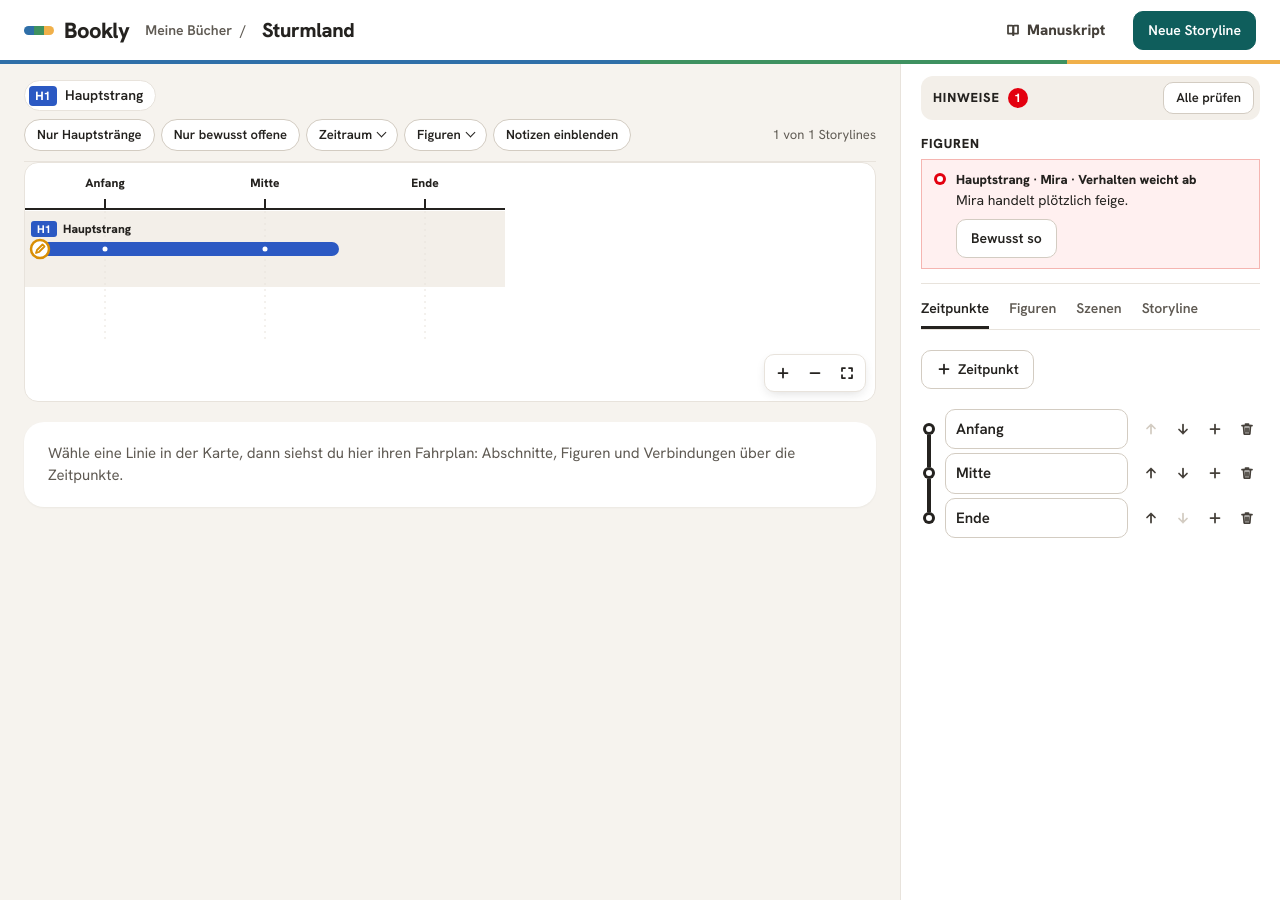
Test case: BookHints – Figuren › confirms with the character name and posts the acknowledgement
Click the button "Bewusst so".
click(1006, 238)  # box [956,218,1057,258]
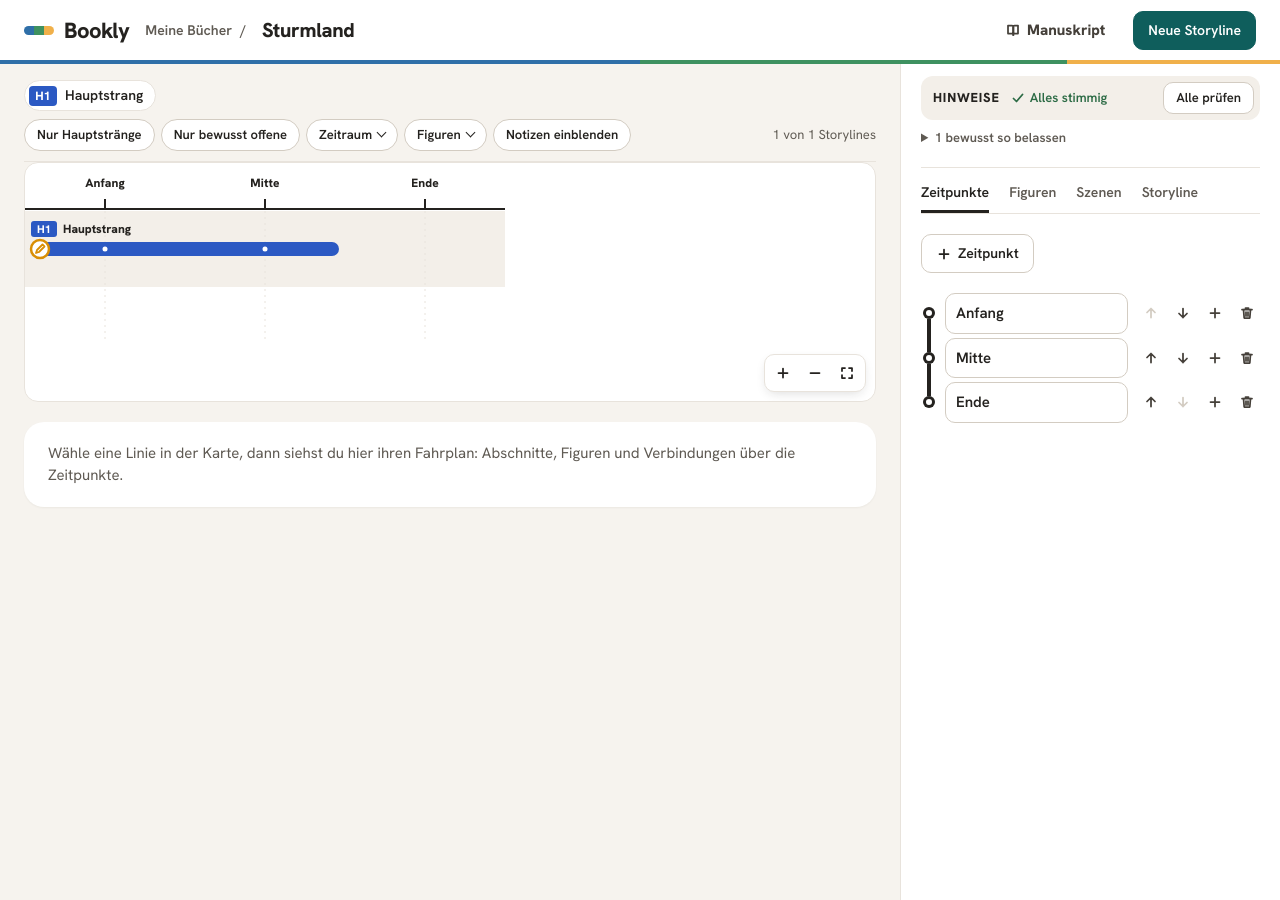
Now the heading "1 bewusst so belassen" is shown, box [935,128,1066,146]
